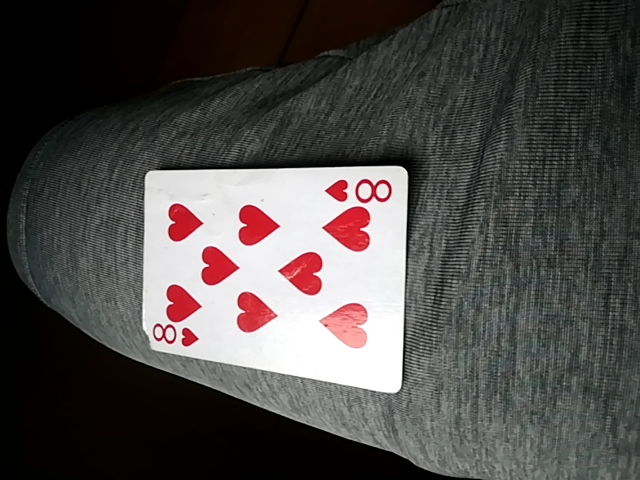hx 8: (143, 160, 410, 395)
